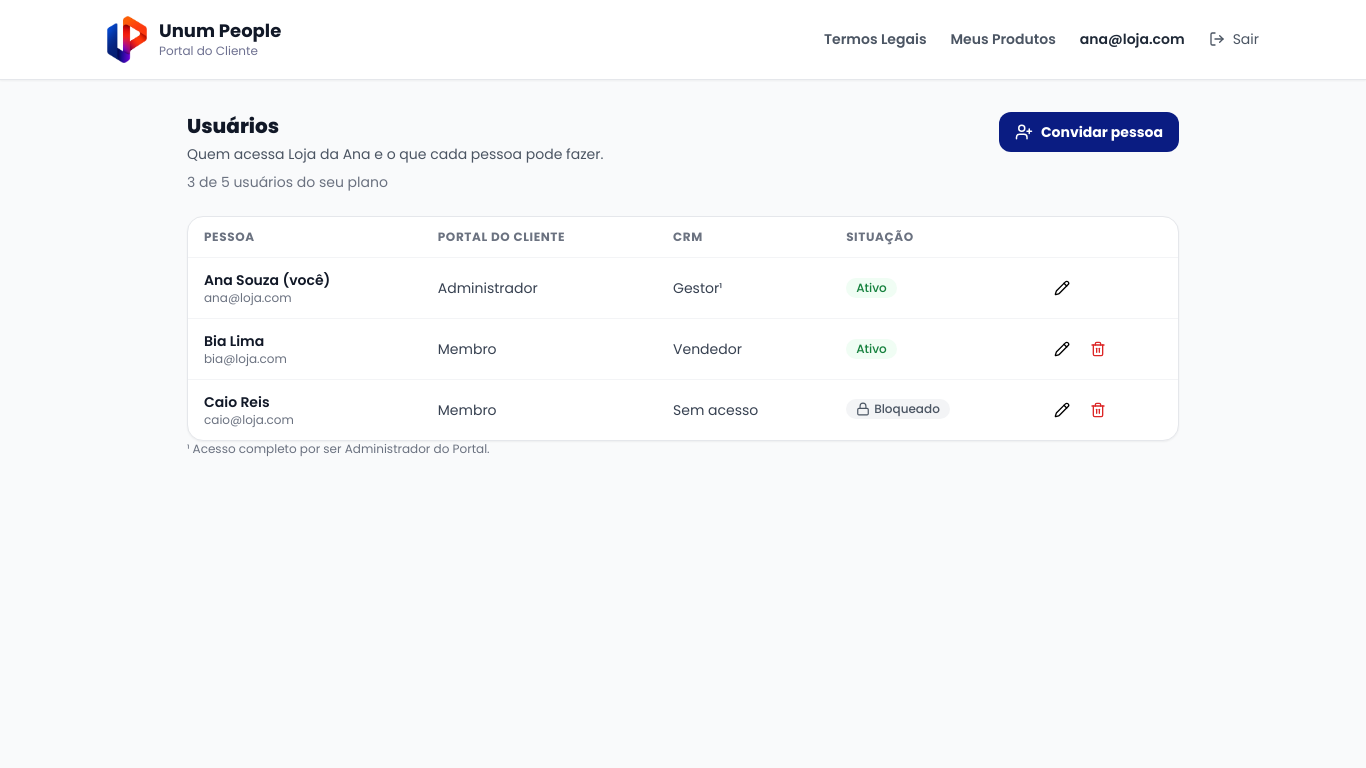
it: Página Usuários › convidar: abre a caixa, envia, avisa e recarrega
Check: the table is shown, box [188, 217, 1178, 440]
Click the button "Convidar pessoa" at (1089, 132), box [999, 112, 1179, 152]
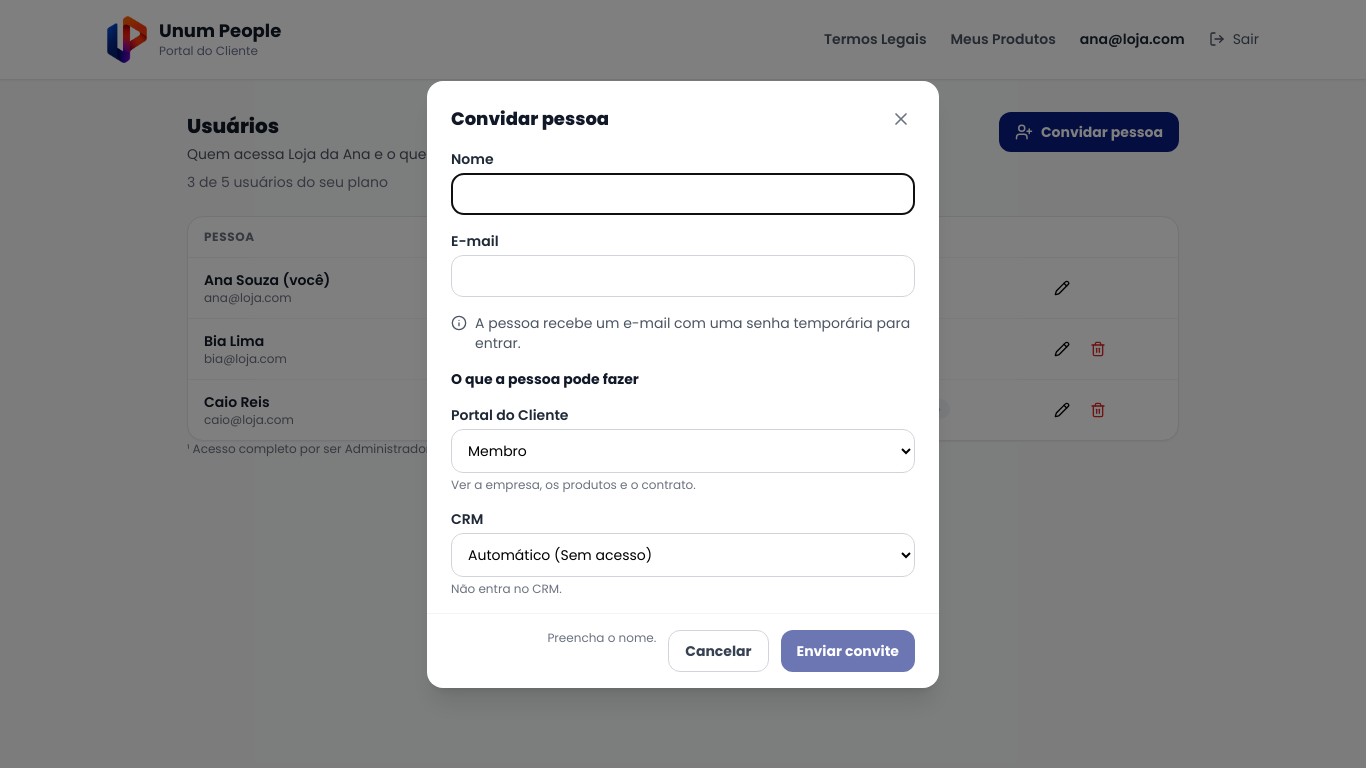
Type "Edu" into the field labelled "Nome" at (683, 194), box [451, 172, 915, 214]
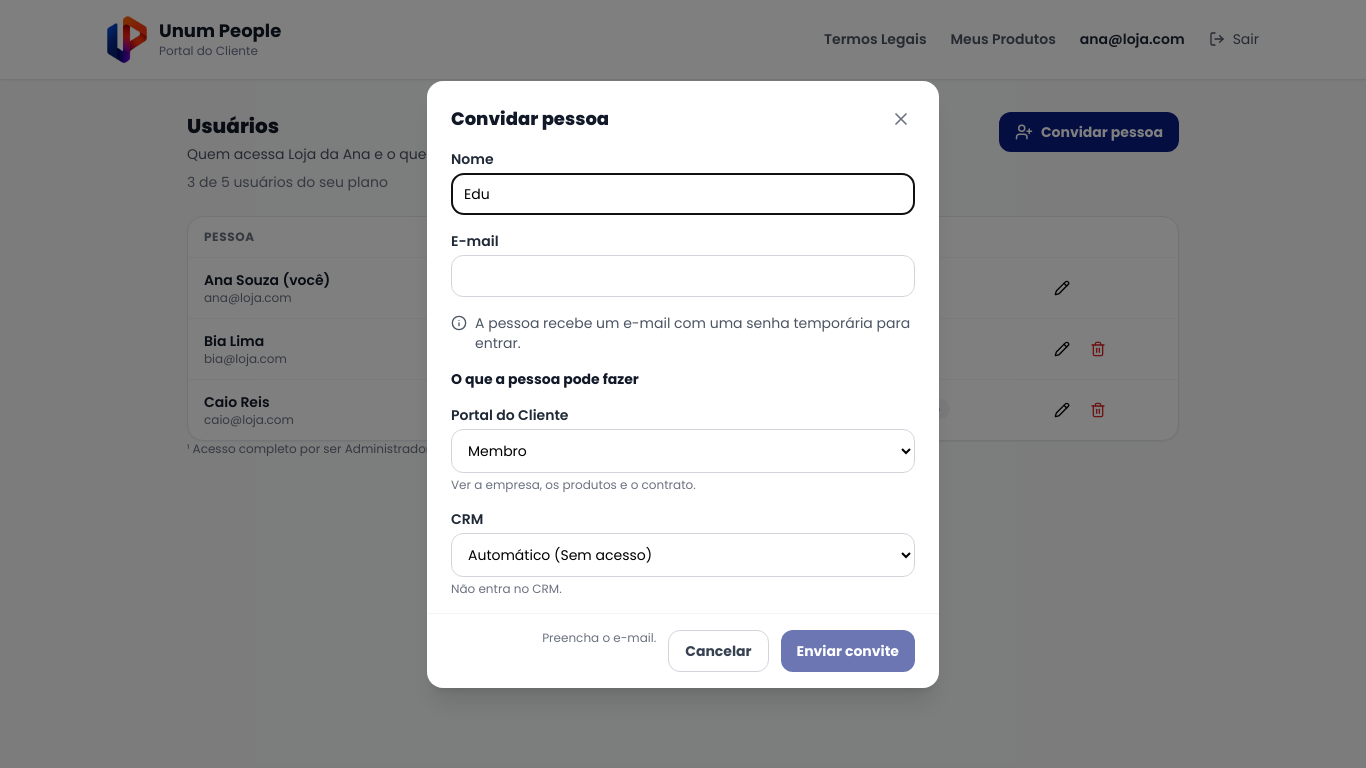
Type "edu@loja.com" into the field labelled "E-mail" at (683, 276), box [451, 254, 915, 296]
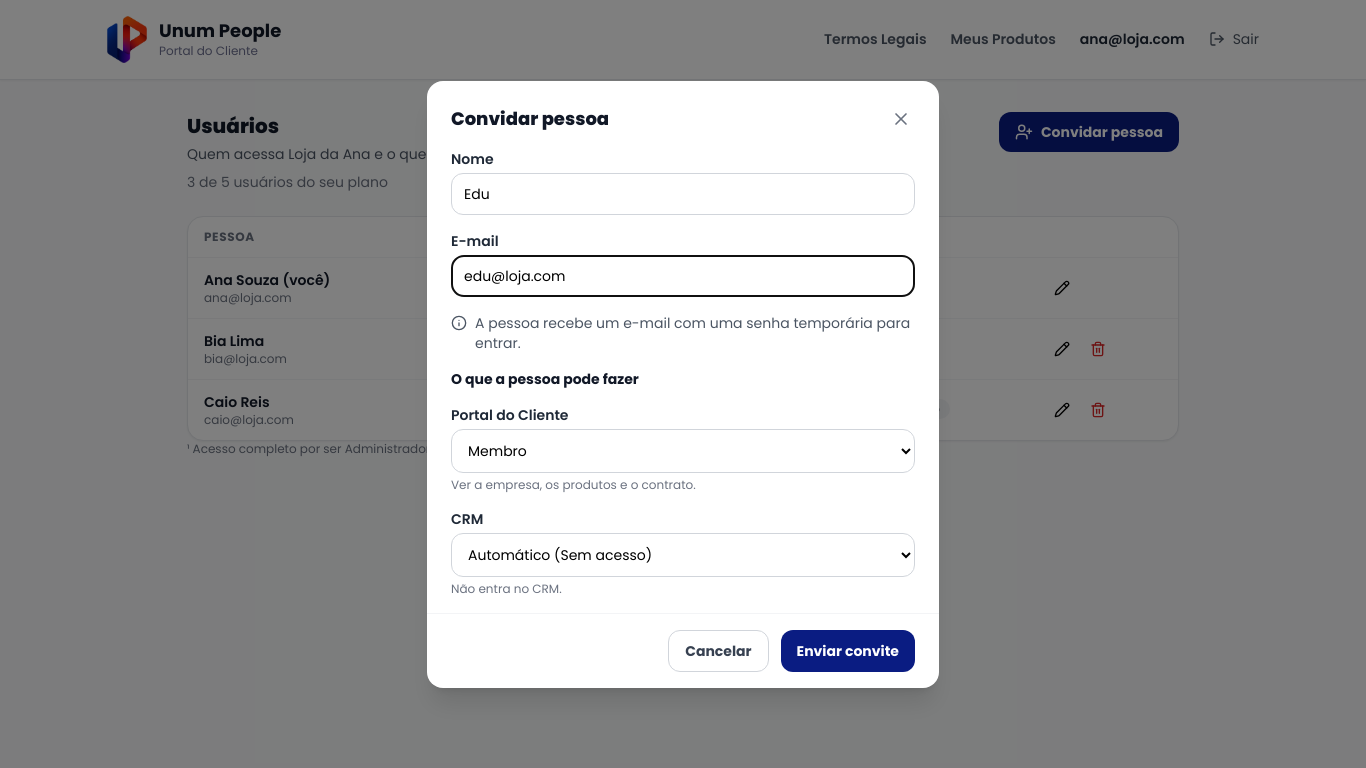
Click the button "Enviar convite" at (848, 650), box [781, 630, 915, 672]
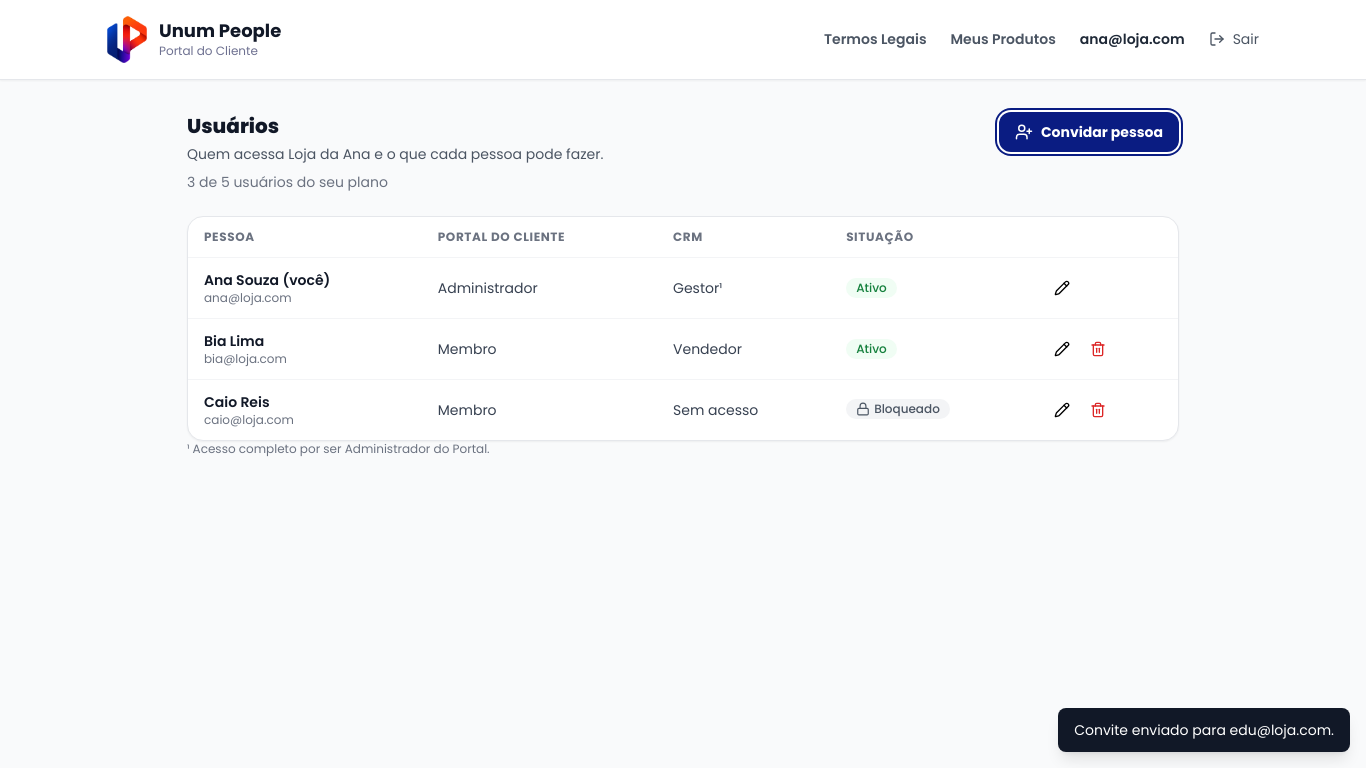
Check: the message reads "Convite enviado para edu@loja.com.", box [1074, 720, 1334, 740]
Check: the dialog is gone
